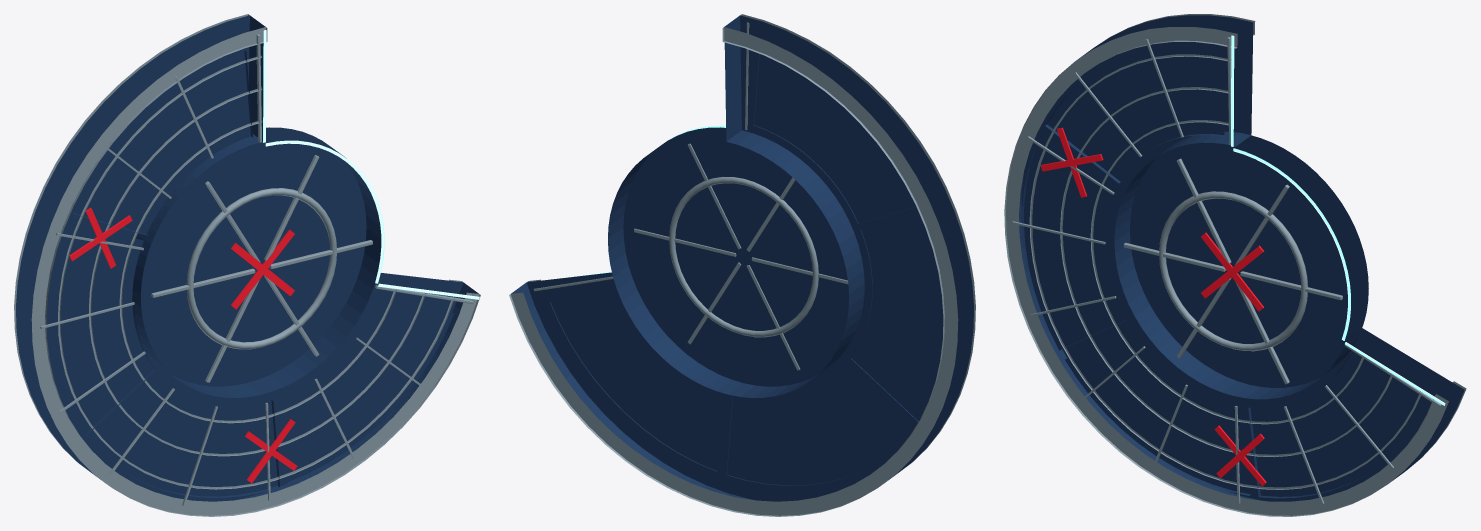
Rendered from foundry-panel-fun11-high.glb.
3 renders of one model, left to right at view 1: azimuth 30°, elevation 25°; view 2: azimuth 150°, elevation 25°; view 3: azimuth 330°, elevation 25°, orthographic.
Visible parts, largest first — view 1: RENDER_PANEL_SHELL, RENDER_PANEL_FRAME, RENDER_PANEL_HAZARD, RENDER_PANEL_SIGNAL; view 2: RENDER_PANEL_SHELL, RENDER_PANEL_FRAME; view 3: RENDER_PANEL_SHELL, RENDER_PANEL_FRAME, RENDER_PANEL_HAZARD, RENDER_PANEL_SIGNAL.
Part boxes in pixels (box(x1,y1,x2,y2)): RENDER_PANEL_SHELL: box(16, 15, 478, 501); RENDER_PANEL_FRAME: box(14, 14, 480, 516); RENDER_PANEL_HAZARD: box(69, 207, 297, 483); RENDER_PANEL_SIGNAL: box(263, 30, 479, 299); RENDER_PANEL_SHELL: box(511, 15, 973, 501); RENDER_PANEL_FRAME: box(509, 14, 975, 516); RENDER_PANEL_SHELL: box(1019, 15, 1464, 501); RENDER_PANEL_FRAME: box(1004, 14, 1466, 516); RENDER_PANEL_HAZARD: box(1041, 127, 1266, 486); RENDER_PANEL_SIGNAL: box(1231, 35, 1445, 405).
Size of what is drawn, in the model's own units: 39.89 by 40.98 by 3.09.
